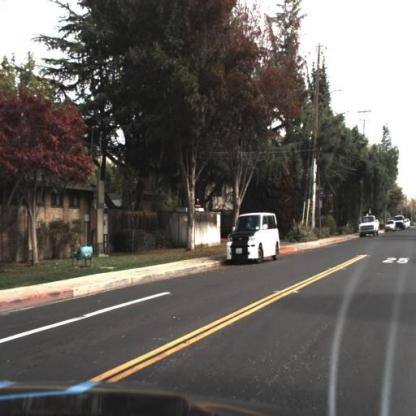car: (226, 213, 282, 264), (359, 215, 382, 240)
